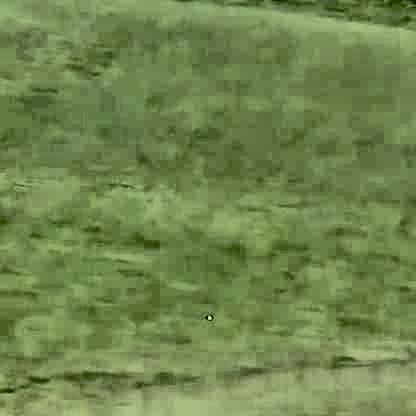golfball: (205, 312, 209, 316)
